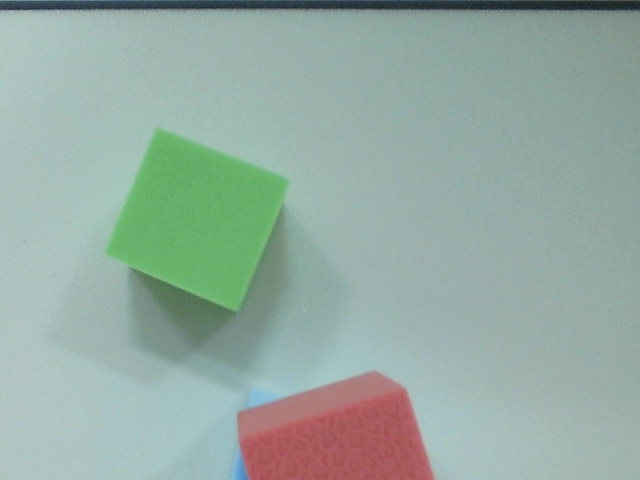greencube: (105, 125, 296, 324)
